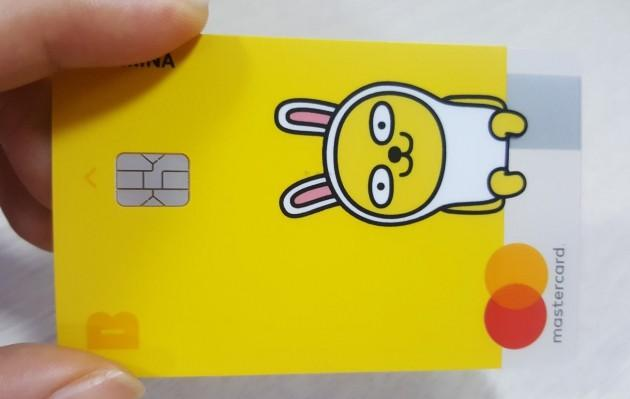Credit_card: (53, 35, 583, 375)
